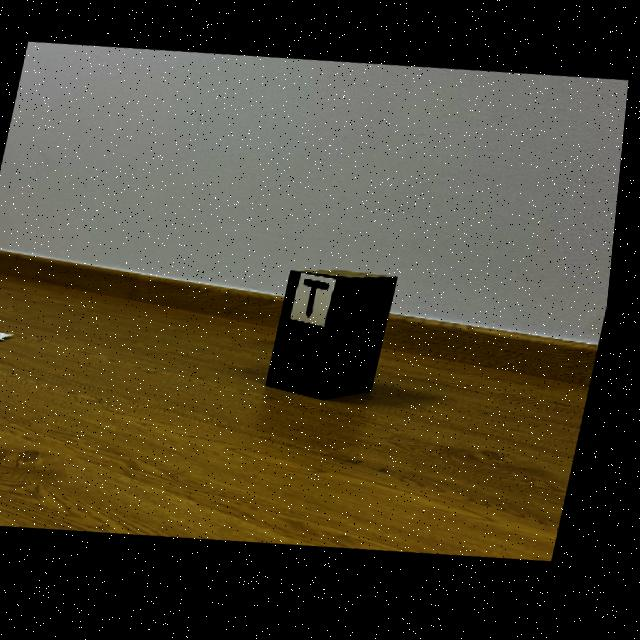T: (309, 283, 335, 321)
